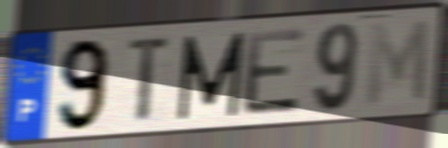9: (55, 36, 114, 133), (309, 20, 365, 116)
E: (241, 25, 308, 119)
M: (175, 29, 248, 124), (364, 17, 432, 111)
T: (126, 33, 175, 129)
